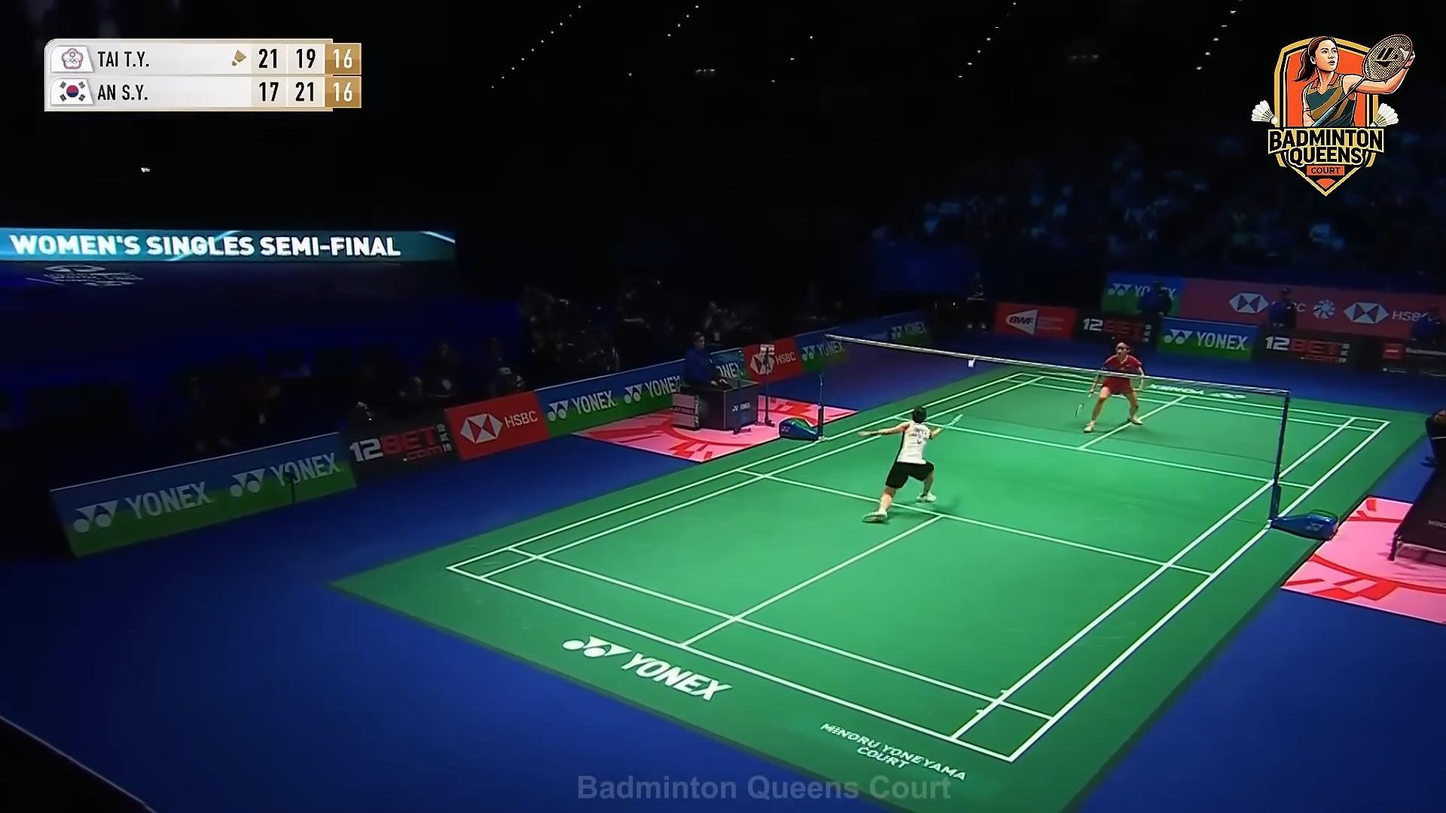player: (857, 405, 943, 525), (1084, 339, 1146, 435)
shuttlecock: (967, 358, 976, 372)
